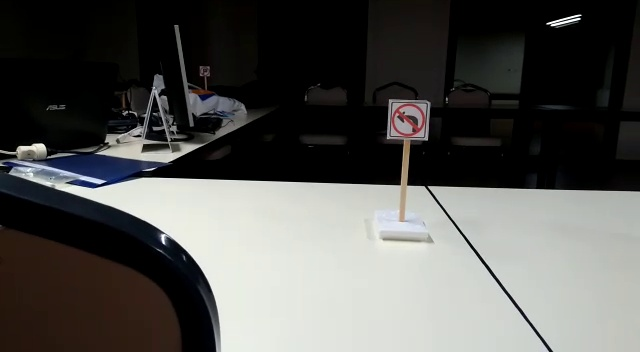sola_donulmez: (387, 102, 430, 139)
